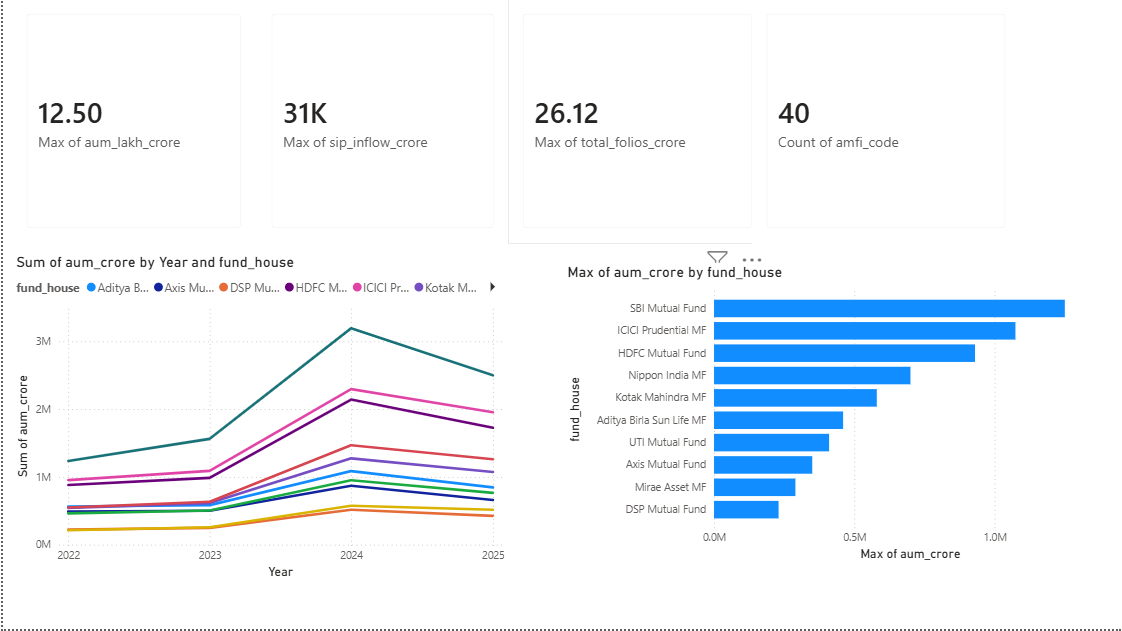

What the dashboard file says about the page in this screenshot:
{"tool":"powerbi","page":{"name":"Industry Overview","canvas":[1280,720],"ordinal":0},"visuals":[{"type":"cardVisual","fields":{"Data":["Max(clean_aum_by_fund_house.aum_lakh_crore)"]},"box":[9.6,0,279.9,279.9],"z":0},{"type":"cardVisual","fields":{"Data":["Max(clean_monthly_sip_inflows.sip_inflow_crore)"]},"box":[289.5,0,288.2,279.9],"z":1000},{"type":"cardVisual","fields":{"Data":["Max(clean_industry_folio_count.total_folios_crore)"]},"box":[577.7,0,296.4,279.9],"z":2000},{"type":"cardVisual","fields":{"Data":["CountNonNull(clean_fund_master.amfi_code)"]},"box":[856.3,0,307.4,279.9],"z":3000},{"type":"lineChart","fields":{"Category":["clean_aum_by_fund_house.date.Variation.Date Hierarchy.Year"],"Y":["Sum(clean_aum_by_fund_house.aum_crore)"],"Series":["clean_aum_by_fund_house.fund_house"]},"box":[9.6,289.5,568.1,377.4],"z":4000},{"type":"clusteredBarChart","fields":{"Category":["clean_aum_by_fund_house.fund_house"],"Y":["Max(clean_aum_by_fund_house.aum_crore)"]},"box":[639.5,301.9,640.8,345.8],"z":5000}]}

Visuals, with their boxes in screenshot pixels (x1, y1, x2, y2), scaled from the page's 1280x720 canvas onto the 1122x631 screenshot:
cardVisual - Max(clean_aum_by_fund_house.aum_lakh_crore): l=8, t=0, r=254, b=245
cardVisual - Max(clean_monthly_sip_inflows.sip_inflow_crore): l=254, t=0, r=506, b=245
cardVisual - Max(clean_industry_folio_count.total_folios_crore): l=506, t=0, r=766, b=245
cardVisual - CountNonNull(clean_fund_master.amfi_code): l=751, t=0, r=1020, b=245
lineChart - clean_aum_by_fund_house.date.Variation.Date Hierarchy.Year x Sum(clean_aum_by_fund_house.aum_crore): l=8, t=254, r=506, b=584
clusteredBarChart - clean_aum_by_fund_house.fund_house x Max(clean_aum_by_fund_house.aum_crore): l=561, t=265, r=1121, b=568
